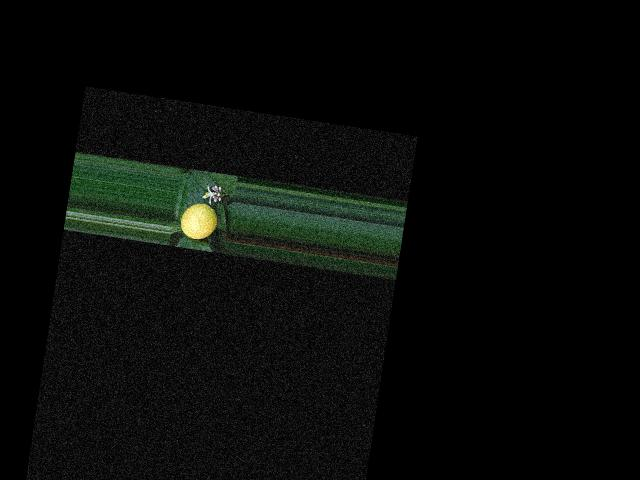lemon: (176, 199, 219, 244)
